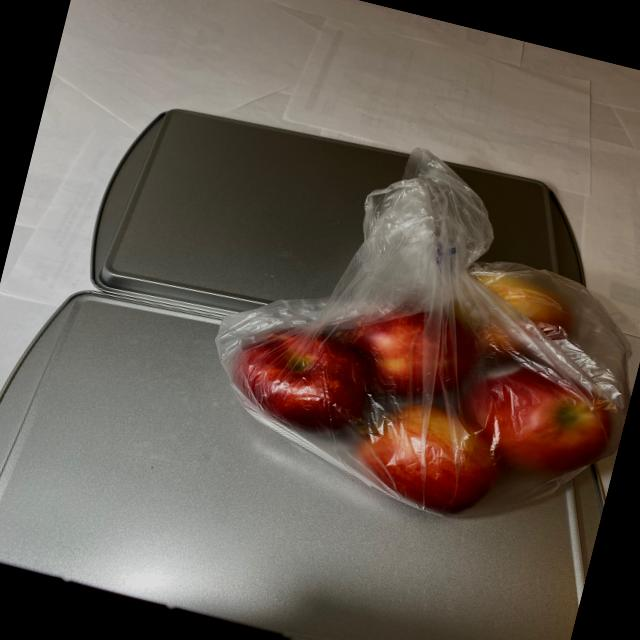apple: (202, 168, 640, 558)
